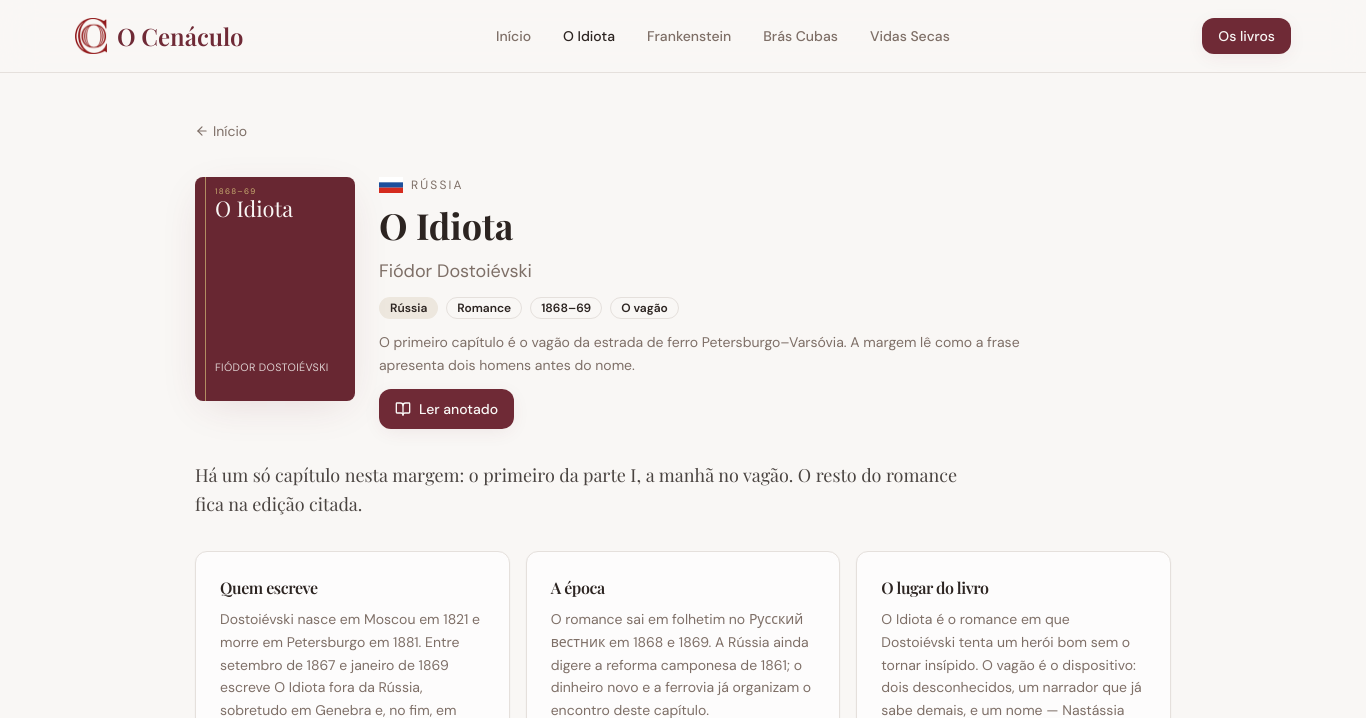
Test: páginas › leva do livro ao capítulo anotado
This screenshot has width=1366, height=718.
Expected: the heading "O Idiota" is shown, [379,201,513,249]
Expected: the text "Há um só capítulo nesta margem" is shown, [195,462,957,516]
Click the link "Ler anotado". click: coordinates (447, 408)
box: [379,388,514,428]
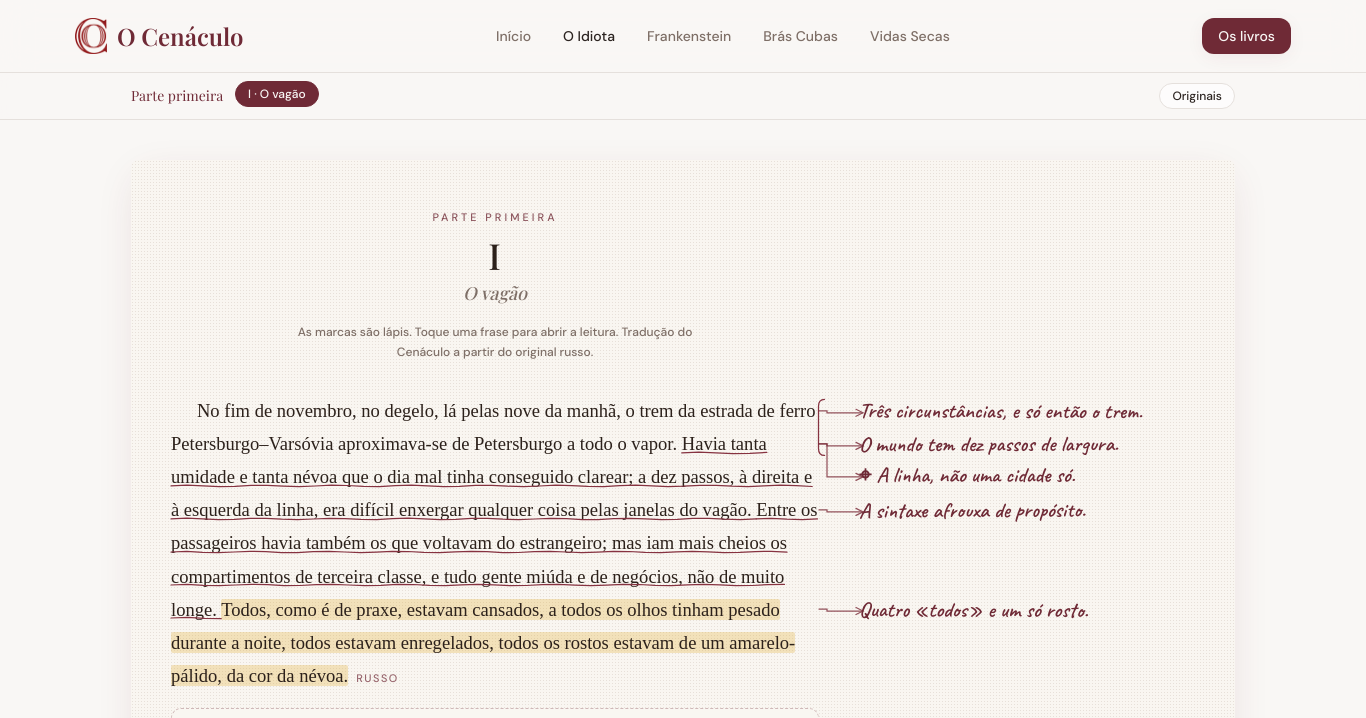
Expected: the text "No fim de novembro, no degelo" is shown, [197,400,816,421]
